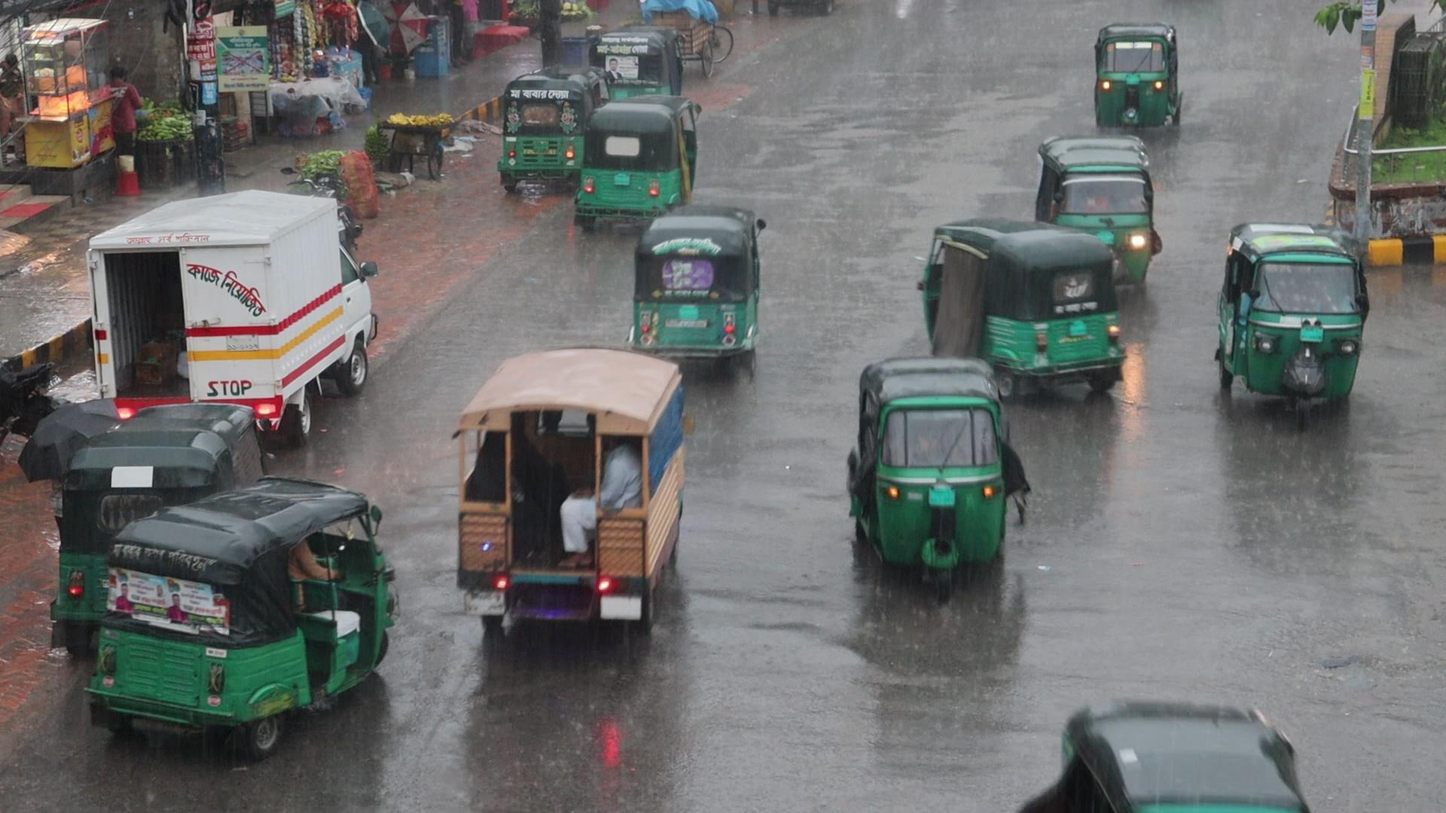Truck: (452, 345, 690, 652)
